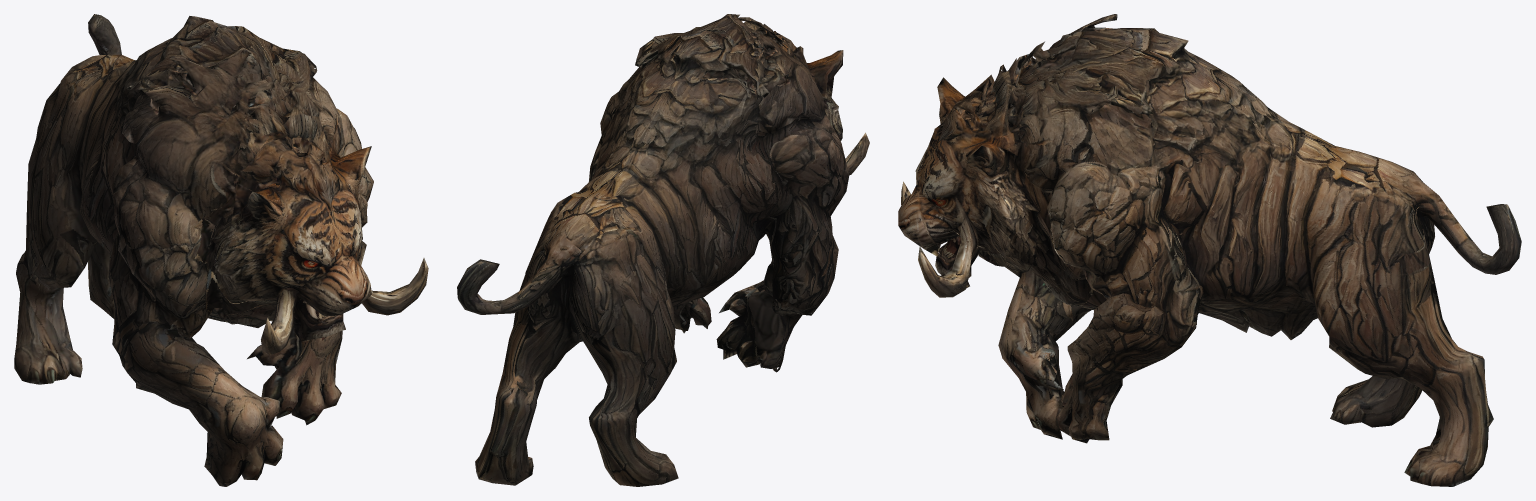
The model's file is Taowu.glb.
3 renders of one model, left to right at view 1: azimuth 30°, elevation 25°; view 2: azimuth 150°, elevation 25°; view 3: azimuth 270°, elevation 25°, orthographic. The views are drawn at different scales.
Visible parts, largest first — view 1: texture_mapping; view 2: texture_mapping; view 3: texture_mapping.
Part boxes in pixels (bbox=[...]): texture_mapping: bbox=[14, 14, 428, 486]; texture_mapping: bbox=[457, 14, 869, 486]; texture_mapping: bbox=[898, 14, 1521, 486].
Size of the model in its own units: 0.4551 by 0.7233 by 0.9951.
1 material, 1 textured.
